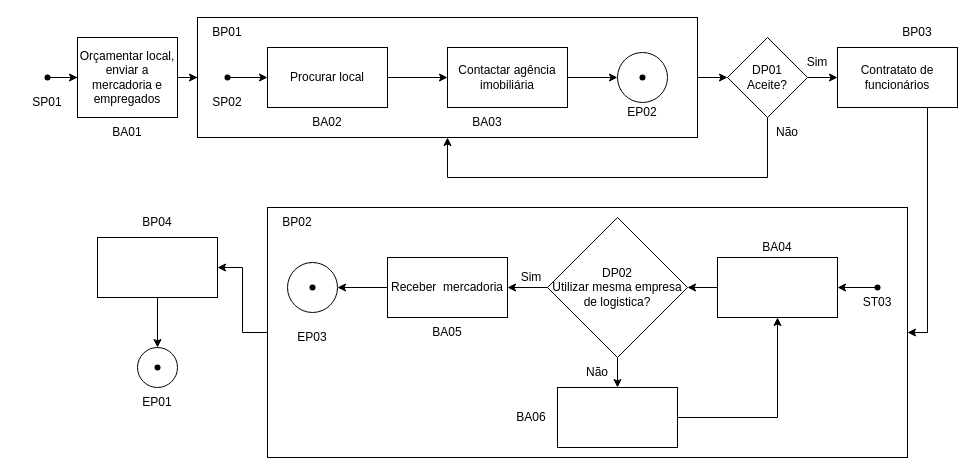
This 975x475 diagram has some shape labels left out. Here are the shapes that lost their labels. From the top down, the centre of each, then its label:
(157,267): Gestão da filial
(777,287): Transportar mercadoria
(617,417): Contratar nova empresa de logistica
